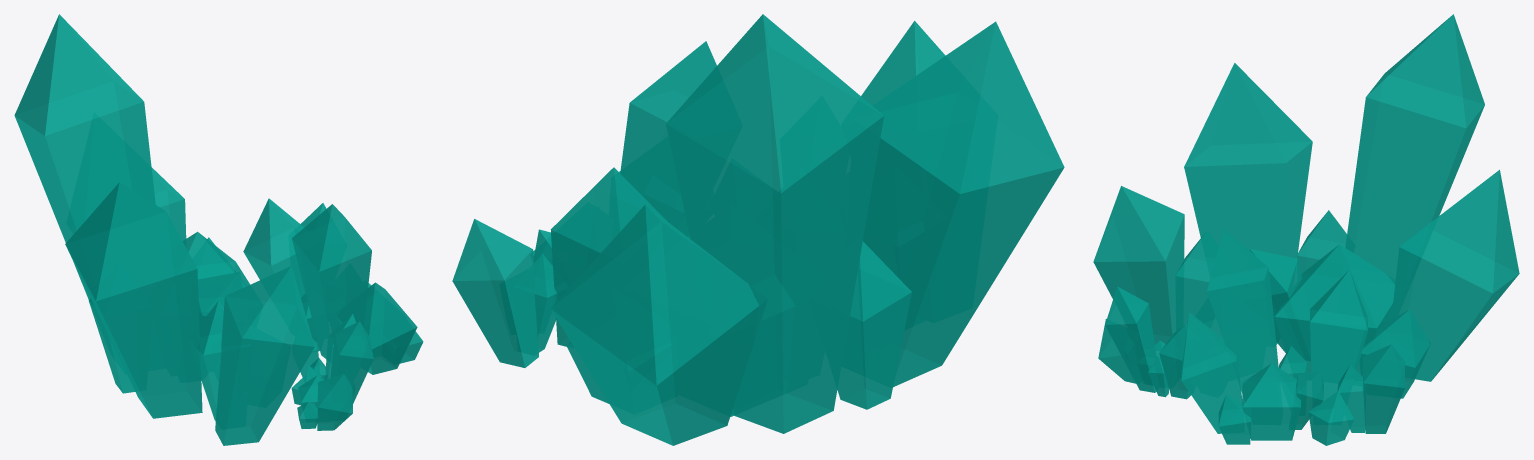
File: crystals_3.fbx
The picture shows the model from 3 angles, left to right: view 1: azimuth 30°, elevation 25°; view 2: azimuth 150°, elevation 25°; view 3: azimuth 270°, elevation 25°; orthographic projection. The views are drawn at different scales.
Parts seen in each view (by area): view 1: Crystall.015, Crystall.013, Crystall.016; view 2: Crystall.015, Crystall.013; view 3: Crystall.015, Crystall.013, Crystall.016.
Part boxes in pixels (box(x1,y1,x2,y2)): Crystall.015: box(14, 14, 314, 445); Crystall.013: box(243, 198, 423, 374); Crystall.016: box(291, 314, 373, 430); Crystall.015: box(550, 14, 1064, 445); Crystall.013: box(452, 41, 716, 367); Crystall.015: box(1093, 14, 1519, 398); Crystall.013: box(1181, 229, 1404, 445); Crystall.016: box(1098, 286, 1190, 399).
Size of the model in its own units: 10.98 by 10.09 by 12.34.
